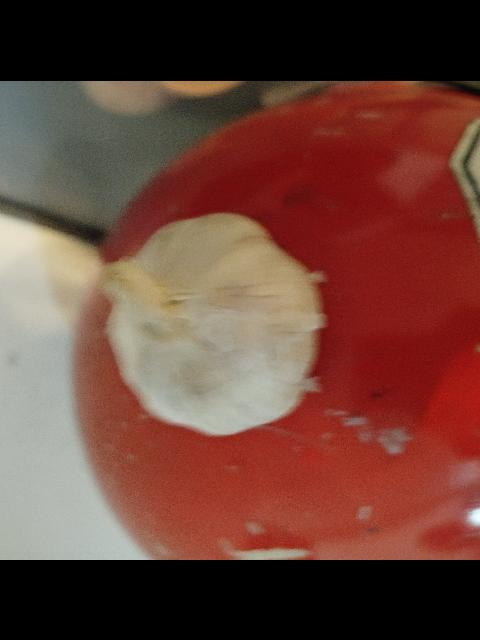garlic: (100, 210, 329, 436)
